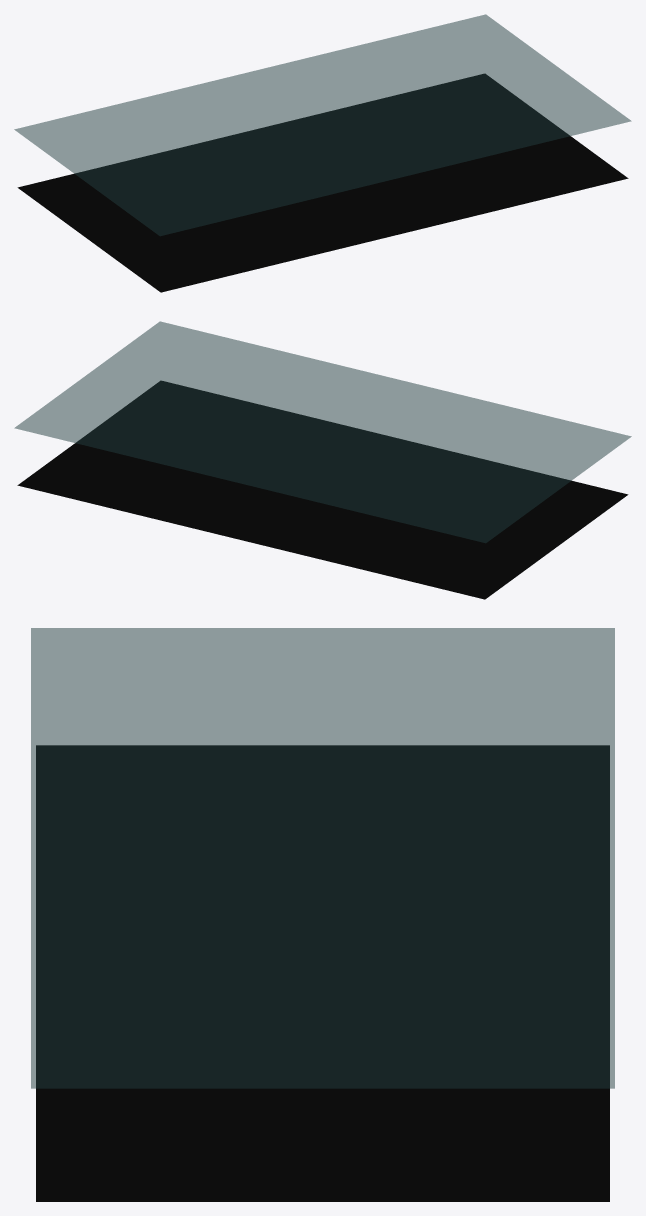
File: ph_pool_water.gltf
3 views of the same model, one above another, from view 1: azimuth 30°, elevation 25°; view 2: azimuth 150°, elevation 25°; view 3: azimuth 270°, elevation 25° (orthographic). The views are drawn at different scales.
Visible parts, largest first — view 1: PHPoolWater_NoCollide_Water, PHPoolWater_NoCollide_Caustics; view 2: PHPoolWater_NoCollide_Water, PHPoolWater_NoCollide_Caustics; view 3: PHPoolWater_NoCollide_Water, PHPoolWater_NoCollide_Caustics.
Part boxes in pixels (x1,y1,x2,y2): PHPoolWater_NoCollide_Water: [14, 14, 631, 236]; PHPoolWater_NoCollide_Caustics: [17, 73, 628, 292]; PHPoolWater_NoCollide_Water: [14, 321, 631, 543]; PHPoolWater_NoCollide_Caustics: [17, 380, 628, 599]; PHPoolWater_NoCollide_Water: [31, 628, 614, 1088]; PHPoolWater_NoCollide_Caustics: [36, 745, 609, 1201].
Bounding box in the file's own units: 11.2 × 1.31 × 6.
